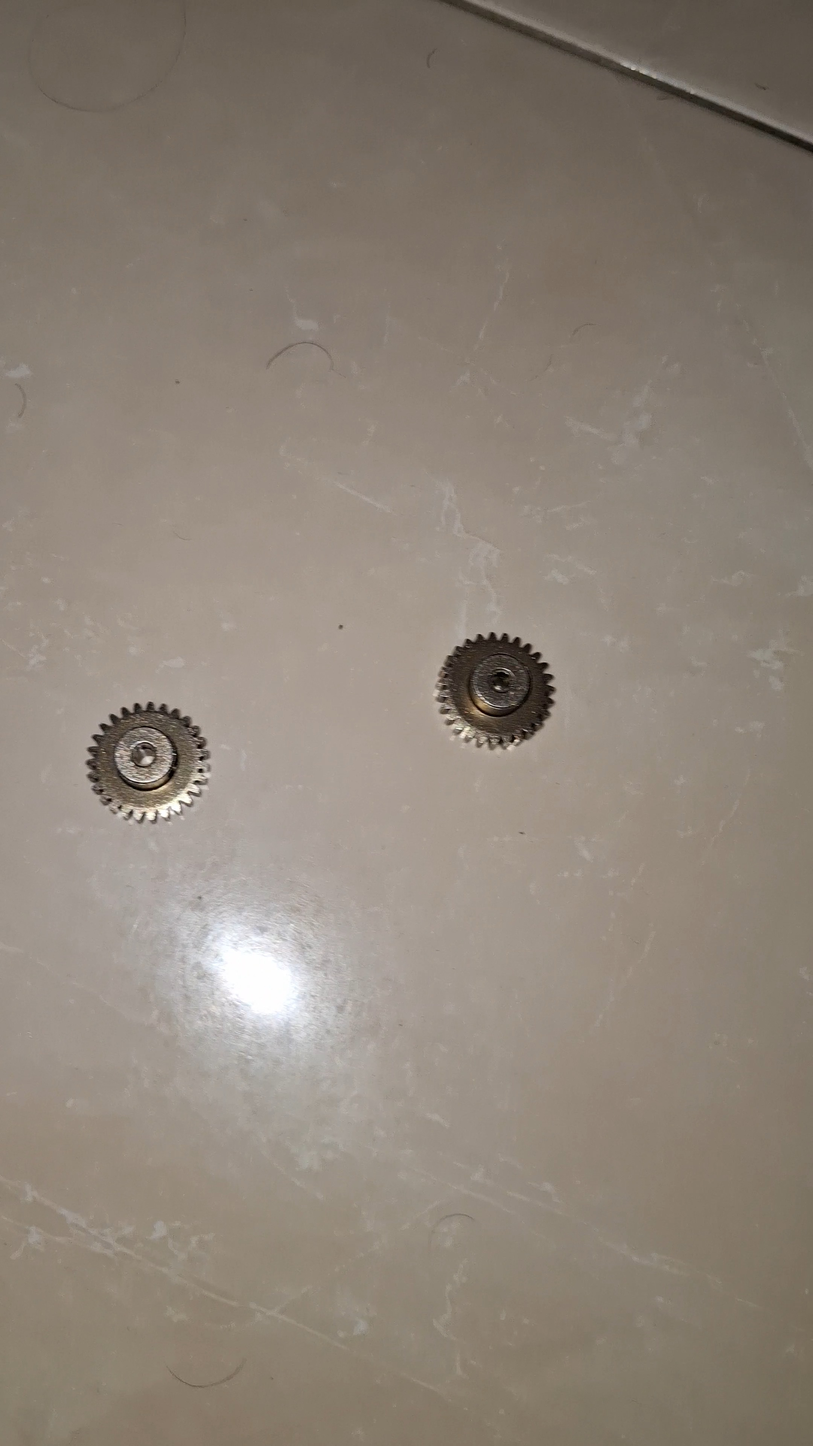spur gear: (89, 703, 209, 821), (435, 633, 554, 747)
